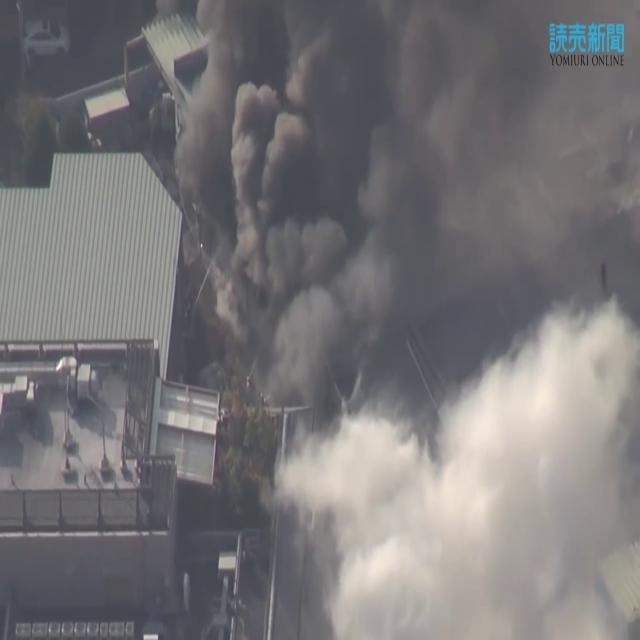Smoke: (179, 0, 640, 616)
